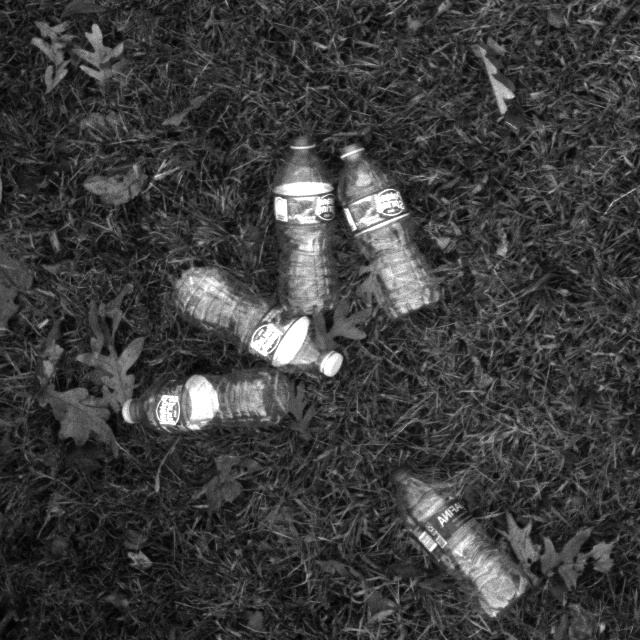bottle: (386, 461, 531, 615), (171, 258, 350, 382), (327, 137, 443, 318), (108, 363, 295, 441), (263, 131, 338, 318)
